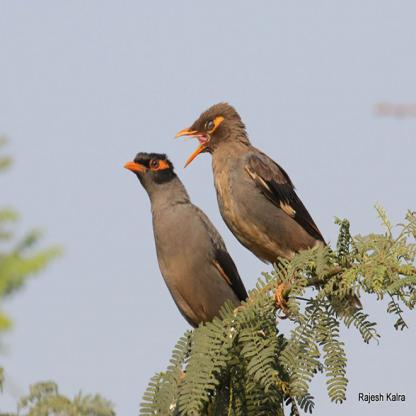Burung: (174, 101, 354, 308), (122, 149, 265, 345)
